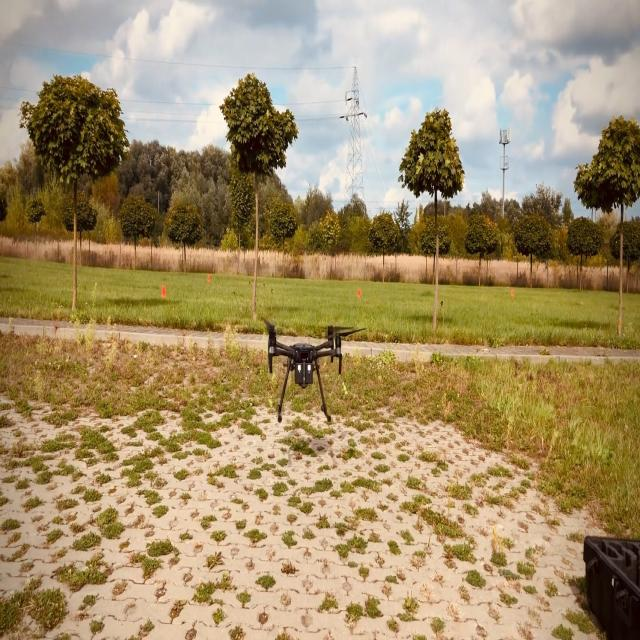drone: (260, 315, 366, 423)
